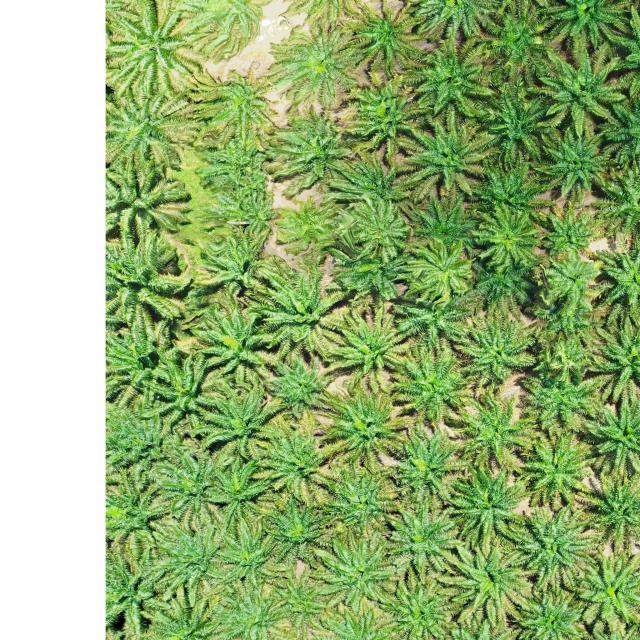Tree: (426, 536, 534, 632), (314, 381, 416, 477), (106, 0, 202, 101), (506, 500, 606, 595), (526, 43, 627, 135), (183, 298, 281, 392), (398, 114, 496, 205), (309, 306, 416, 388), (105, 232, 194, 330), (184, 380, 288, 462), (306, 526, 402, 614), (254, 265, 348, 354), (387, 337, 477, 428), (436, 462, 530, 546), (526, 119, 616, 204), (139, 348, 223, 436), (382, 498, 466, 585), (253, 420, 334, 510), (413, 34, 498, 119), (346, 73, 433, 156), (336, 0, 426, 78), (105, 94, 194, 172), (373, 564, 464, 640), (450, 390, 538, 468), (484, 73, 555, 168), (260, 346, 340, 427), (106, 159, 185, 241), (454, 310, 536, 388), (568, 548, 640, 636), (150, 522, 232, 599), (487, 0, 558, 88), (258, 494, 340, 570), (155, 446, 238, 521), (572, 391, 640, 481), (320, 457, 398, 534), (214, 516, 292, 593), (516, 432, 592, 510), (390, 420, 462, 502), (200, 454, 280, 526), (578, 316, 640, 407), (518, 371, 600, 437), (575, 473, 640, 555), (469, 201, 542, 272), (532, 0, 635, 50), (536, 249, 604, 319), (404, 0, 507, 46), (204, 581, 284, 640), (406, 191, 483, 251), (472, 154, 551, 212), (409, 237, 474, 303), (465, 258, 537, 315), (266, 567, 330, 627), (540, 201, 600, 260)
